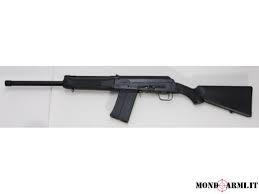larga: (4, 74, 254, 125)
